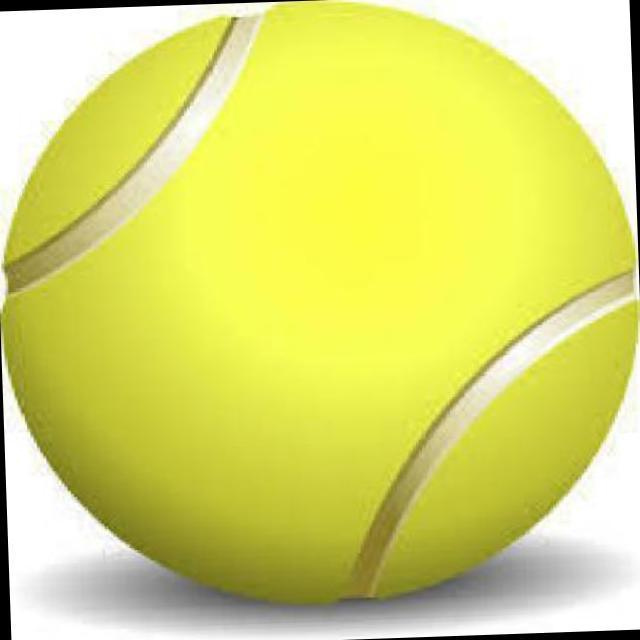-: (47, 16, 640, 593)
